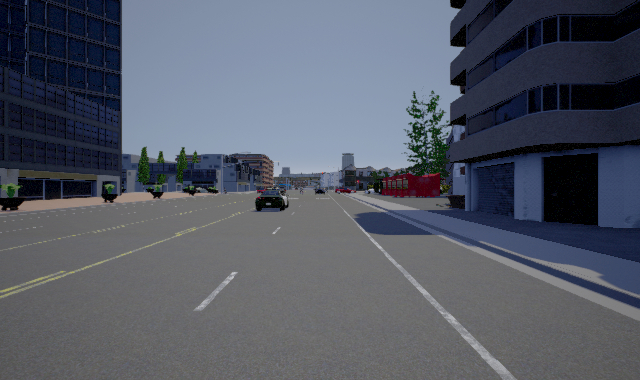vehicle: (255, 186, 289, 211), (335, 186, 356, 195), (314, 185, 326, 195)
